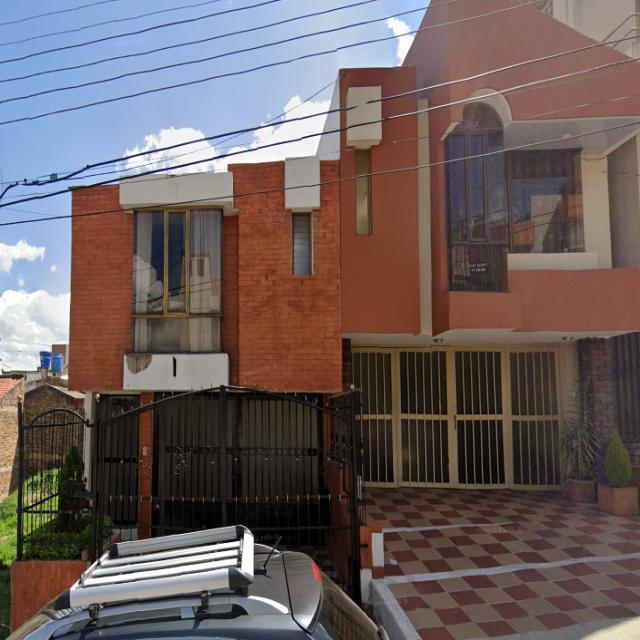Fachada: (71, 0, 640, 488)
